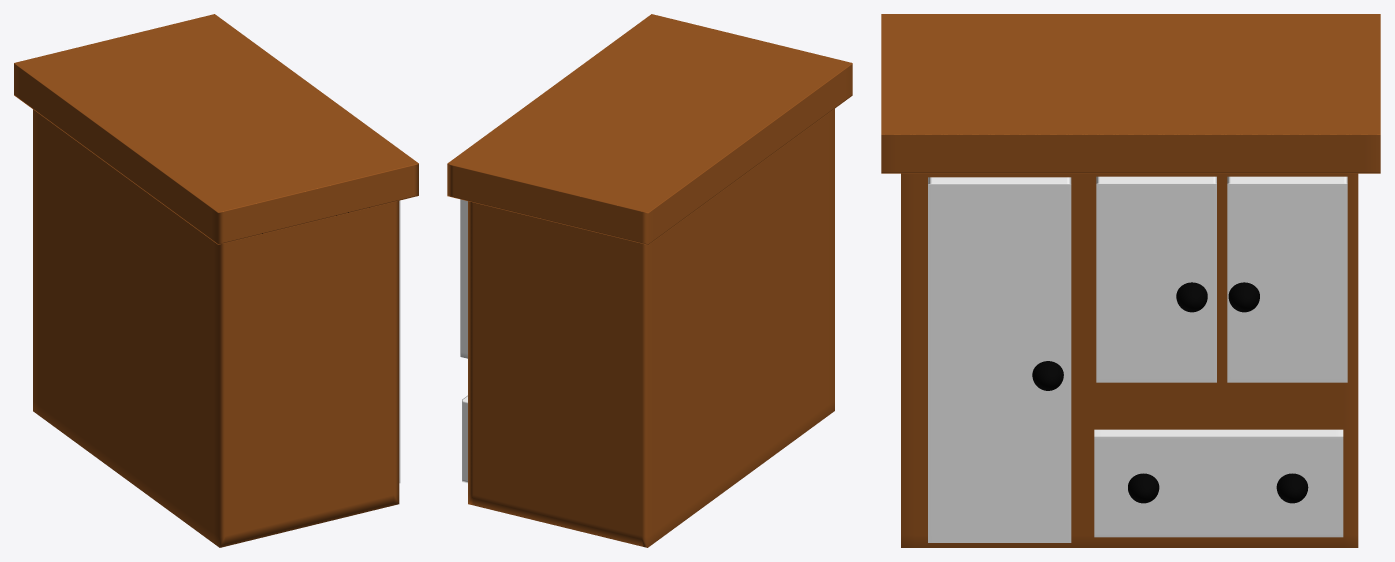
File: armario.glb
3 views of the same model, side by side, from view 1: azimuth 30°, elevation 25°; view 2: azimuth 150°, elevation 25°; view 3: azimuth 270°, elevation 25° (orthographic). The views are drawn at different scales.
Visible parts, largest first — view 1: cube, cube1, cube2; view 2: cube, cube1, cube4, cube5; view 3: cube1, cube2, cube, cube5, cube3, cube4, sphere1, sphere2, sphere, sphere3, sphere4.
Boxes of the visible parts, x1,y1,x2,y2 form: cube: (33,109,399,547); cube1: (14,14,418,244); cube2: (399,200,400,483); cube: (468,109,834,547); cube1: (447,14,852,244); cube4: (460,199,467,358); cube5: (462,395,467,483); cube1: (881,14,1380,173); cube2: (928,177,1071,542); cube: (901,173,1358,547); cube5: (1094,429,1343,537); cube3: (1096,176,1216,382); cube4: (1227,176,1347,382); sphere1: (1176,282,1207,312); sphere2: (1228,282,1259,312); sphere: (1032,361,1063,390); sphere3: (1276,473,1308,503); sphere4: (1128,473,1159,503).
Bounding box in the file's own units: 2.38 × 3.65 × 3.92.
